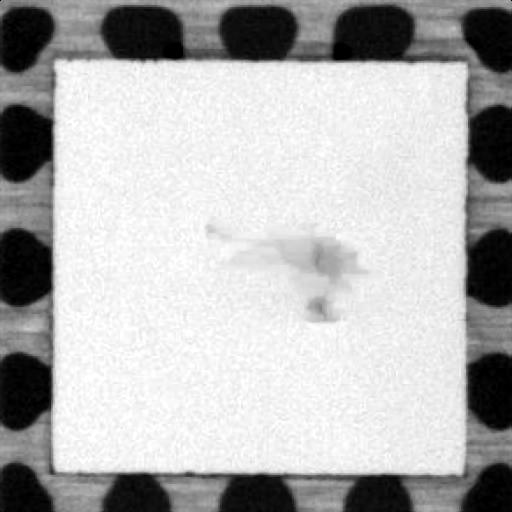DIE_INK: (280, 230, 352, 322)
